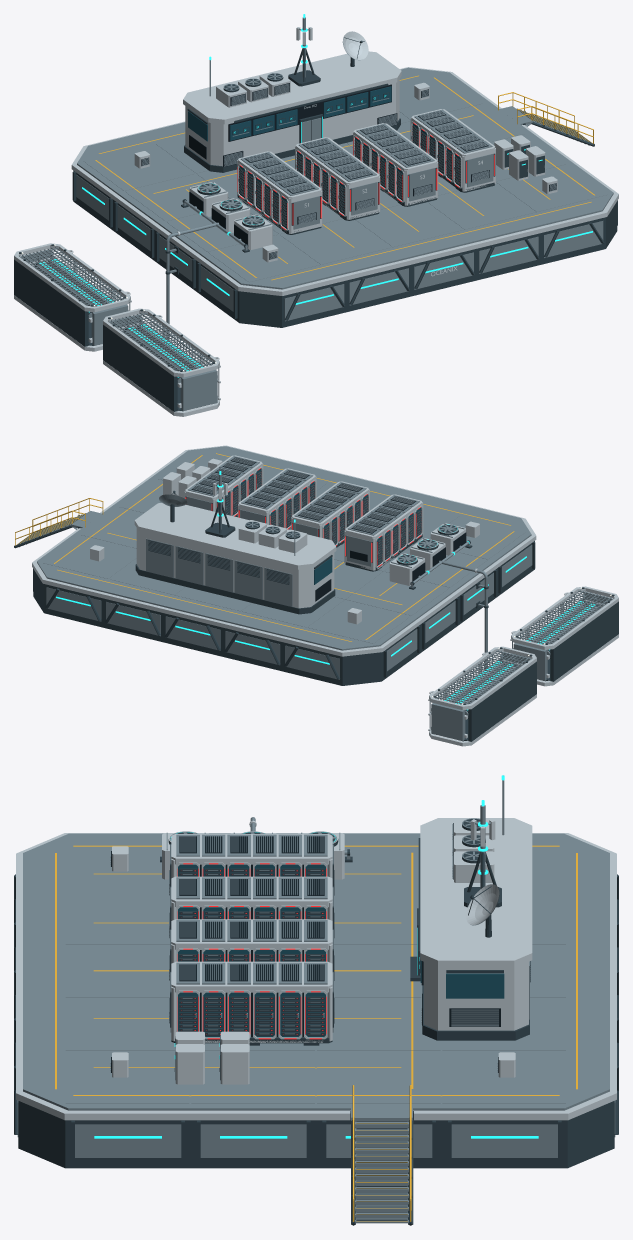
File: Oceanix_Datacenter.fbx
3 views of the same model, one above another, from view 1: azimuth 30°, elevation 25°; view 2: azimuth 150°, elevation 25°; view 3: azimuth 270°, elevation 25° (orthographic). The views are drawn at different scales.
Parts seen in each view (by area): view 1: Hull, Control House, W1 Submerged Cooling Pod, W2 Submerged Cooling Pod, Deck Utilities, S1 Server Compartment, S3 Server Compartment, S2 Server Compartment, S4 Server Compartment, Roof Communications, W1 Cooling Fins and Cage Detail, W2 Cooling Fins and Cage Detail (+4 smaller); view 2: Hull, Control House, W2 Submerged Cooling Pod, W1 Submerged Cooling Pod, S1 Server Compartment, Deck Utilities, S2 Server Compartment, S3 Server Compartment, S4 Server Compartment, Roof Communications, W2 Cooling Fins and Cage Detail, W1 Cooling Fins and Cage Detail (+2 smaller); view 3: Hull, Control House, S4 Server Compartment, Right Side Access Staircase, S2 Server Compartment, S1 Server Compartment, S3 Server Compartment, Deck Utilities, Roof Communications, Light Mounting Housings, Additional Light Seats.
Part boxes in pixels (bbox=[...]): Hull: bbox=[71, 67, 618, 327]; Control House: bbox=[183, 51, 401, 172]; W1 Submerged Cooling Pod: bbox=[103, 308, 219, 416]; W2 Submerged Cooling Pod: bbox=[14, 243, 130, 351]; Deck Utilities: bbox=[134, 82, 557, 262]; S1 Server Compartment: bbox=[237, 151, 322, 234]; S3 Server Compartment: bbox=[353, 123, 438, 206]; S2 Server Compartment: bbox=[295, 137, 380, 220]; S4 Server Compartment: bbox=[410, 109, 495, 192]; Roof Communications: bbox=[209, 14, 368, 107]; W1 Cooling Fins and Cage Detail: bbox=[108, 312, 220, 400]; W2 Cooling Fins and Cage Detail: bbox=[19, 247, 131, 316]; Hull: bbox=[32, 445, 536, 685]; Control House: bbox=[134, 503, 336, 614]; W2 Submerged Cooling Pod: bbox=[429, 646, 536, 746]; W1 Submerged Cooling Pod: bbox=[511, 586, 618, 686]; S1 Server Compartment: bbox=[344, 494, 423, 571]; Deck Utilities: bbox=[90, 458, 479, 624]; S2 Server Compartment: bbox=[291, 481, 369, 547]; S3 Server Compartment: bbox=[238, 468, 316, 529]; S4 Server Compartment: bbox=[184, 455, 263, 516]; Roof Communications: bbox=[159, 471, 307, 555]; W2 Cooling Fins and Cage Detail: bbox=[428, 650, 531, 731]; W1 Cooling Fins and Cage Detail: bbox=[510, 590, 614, 648]; Hull: bbox=[14, 833, 618, 1168]; Control House: bbox=[410, 818, 532, 1040]; S4 Server Compartment: bbox=[169, 961, 334, 1045]; Right Side Access Staircase: bbox=[350, 1085, 413, 1225]; S2 Server Compartment: bbox=[169, 876, 334, 937]; S1 Server Compartment: bbox=[169, 834, 334, 895]; S3 Server Compartment: bbox=[169, 919, 334, 980]; Deck Utilities: bbox=[110, 831, 515, 1084]; Roof Communications: bbox=[452, 775, 504, 937]; Light Mounting Housings: bbox=[169, 831, 503, 973]; Additional Light Seats: bbox=[170, 843, 419, 1027].
Bounding box in the file's own units: 4116 × 1805 × 2698.
